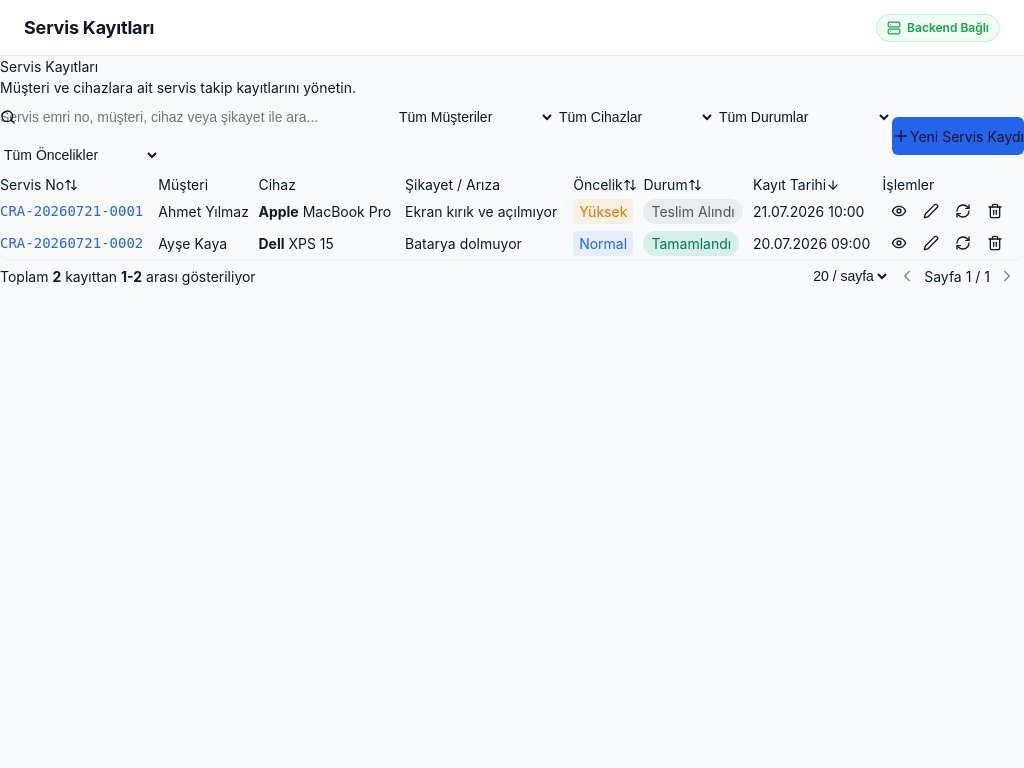
Test: RepairOrdersPage Integration › opens details dialog when view button is clicked
The width and height of the screenshot is (1024, 768).
Expected: the text "CRA-20260721-0001" is shown, [0, 203, 143, 219]
Click the button named "detaylarını görüntüle".
click(898, 211)  # box [882, 195, 914, 227]
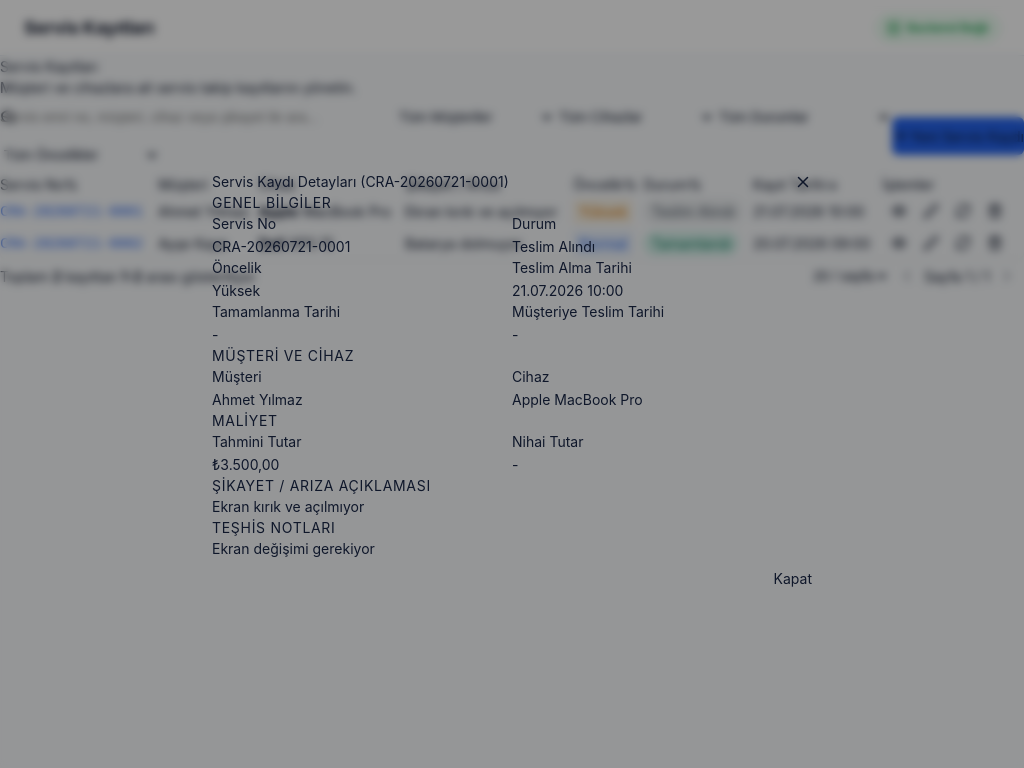
Now the dialog "Servis Kaydı Detayları" is shown, box [212, 171, 812, 597]
Now the text "Ekran kırık ve açılmıyor" is shown, box [212, 498, 364, 515]
